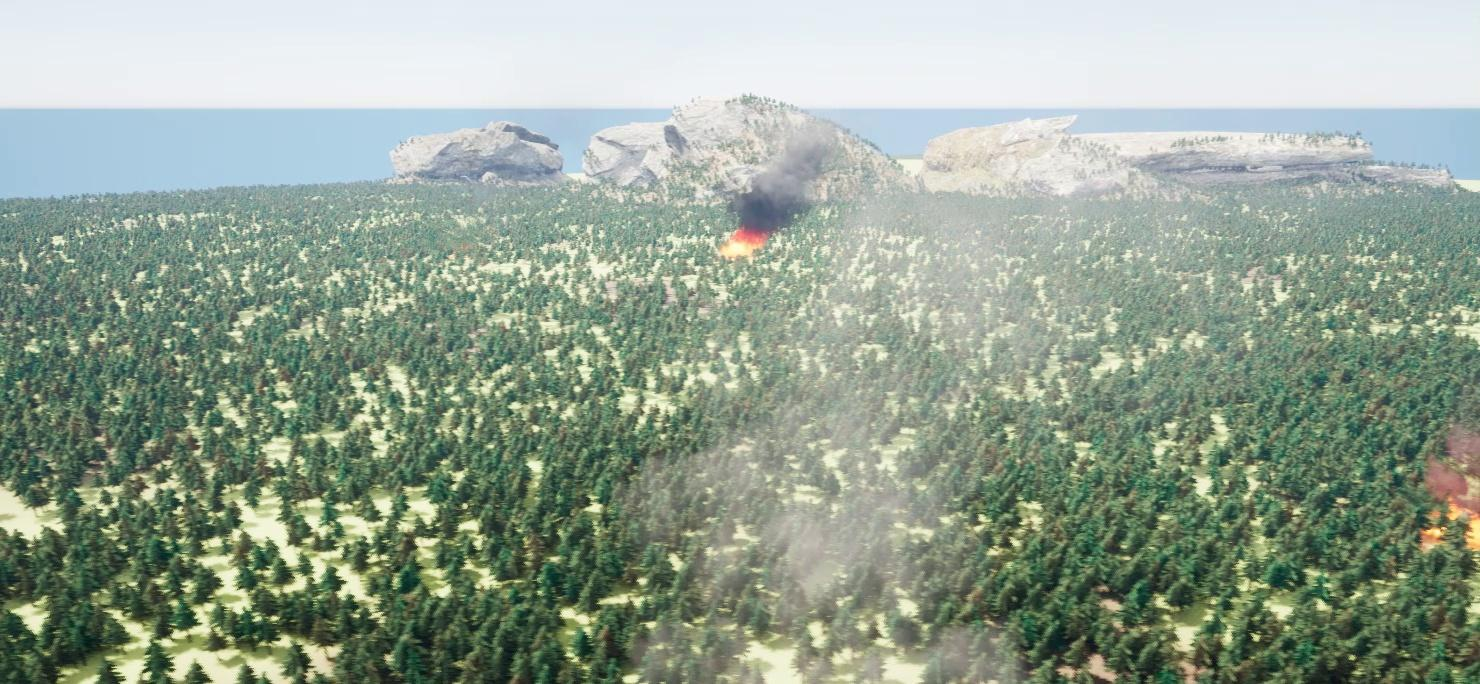fire: (1415, 500, 1479, 552), (712, 228, 766, 259)
smoke: (644, 198, 1026, 680), (731, 123, 846, 226), (1426, 423, 1479, 502)
